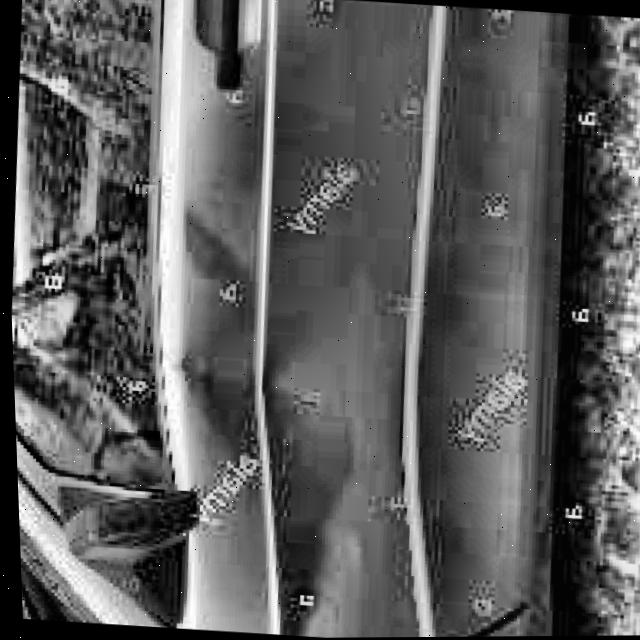door_dent: (179, 292, 435, 497)
